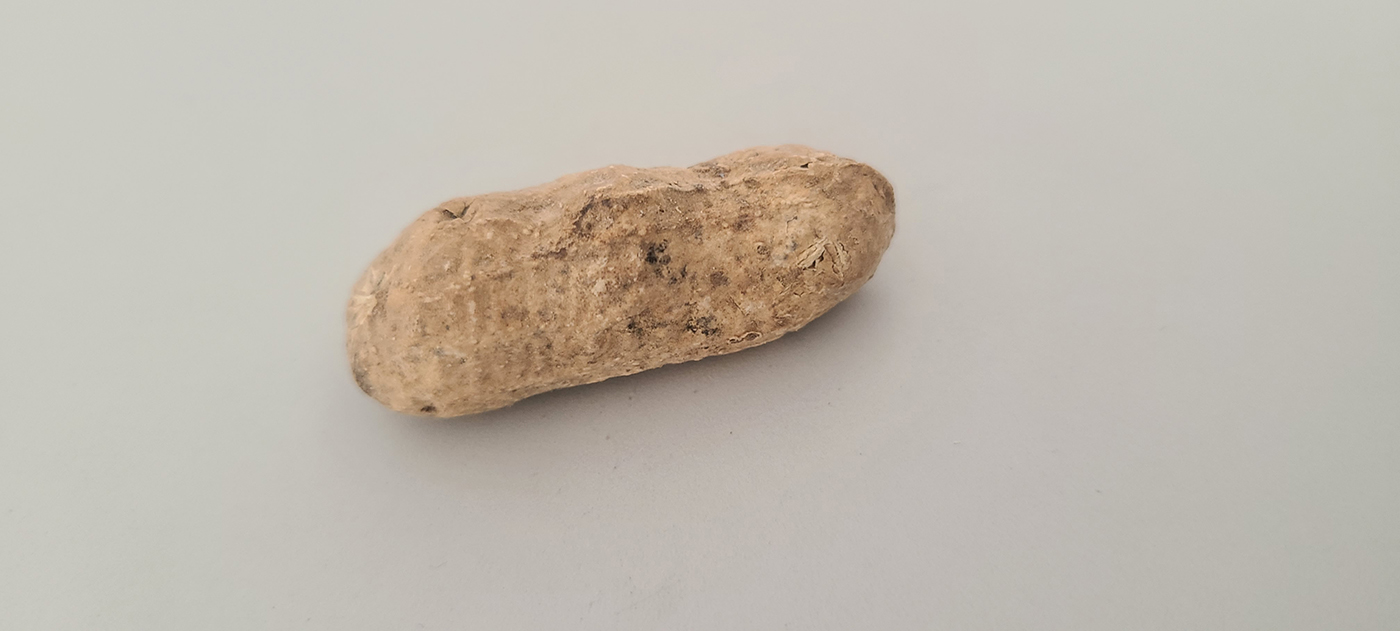h: (340, 140, 900, 422)
